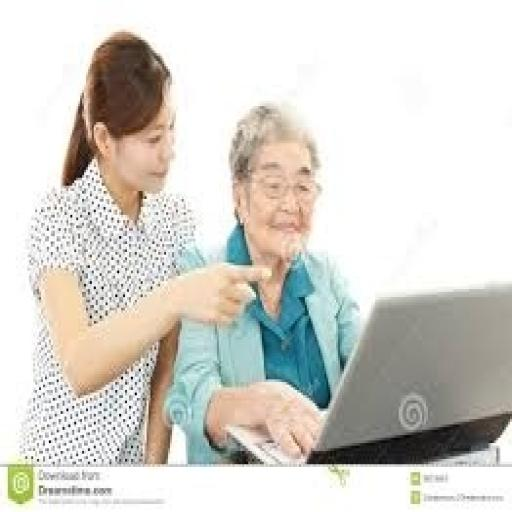using_laptop: (221, 279, 510, 464)
